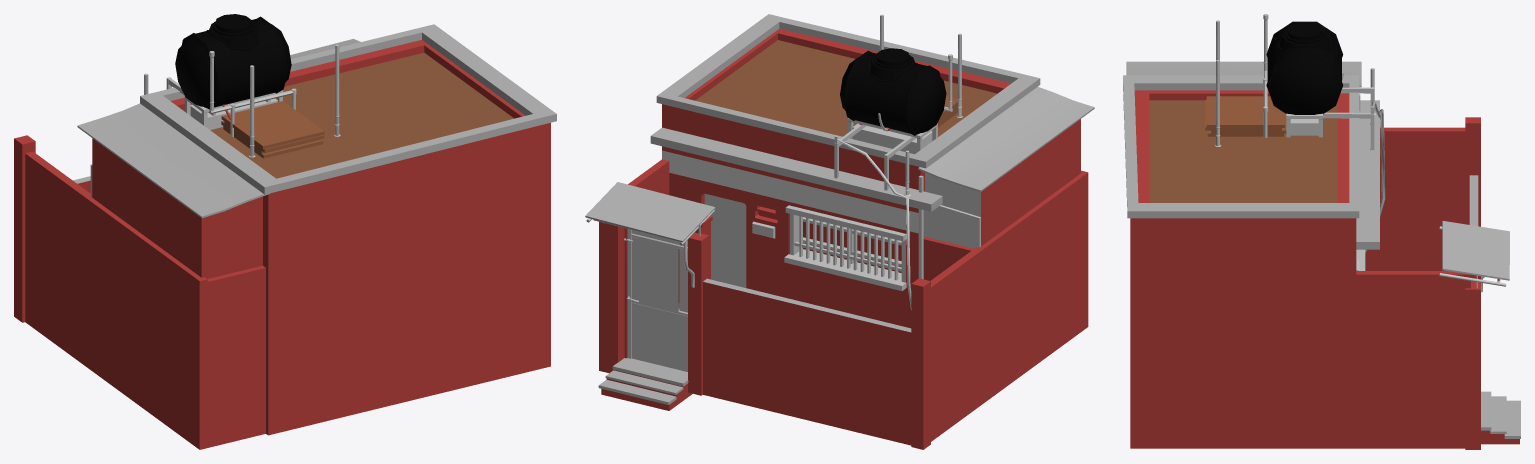
File: house_pinkwhitedoors.fbx
The picture shows the model from 3 angles, left to right: view 1: azimuth 30°, elevation 25°; view 2: azimuth 150°, elevation 25°; view 3: azimuth 270°, elevation 25°; orthographic projection. The views are drawn at different scales.
Visible parts, largest first — view 1: house_pink_metal_doors; view 2: house_pink_metal_doors; view 3: house_pink_metal_doors.
Part boxes in pixels (x1,y1,x2,y2): house_pink_metal_doors: (14, 14, 556, 449); house_pink_metal_doors: (585, 14, 1094, 449); house_pink_metal_doors: (1123, 14, 1520, 449).
Size of the model in its own units: 603 by 547 by 617.
